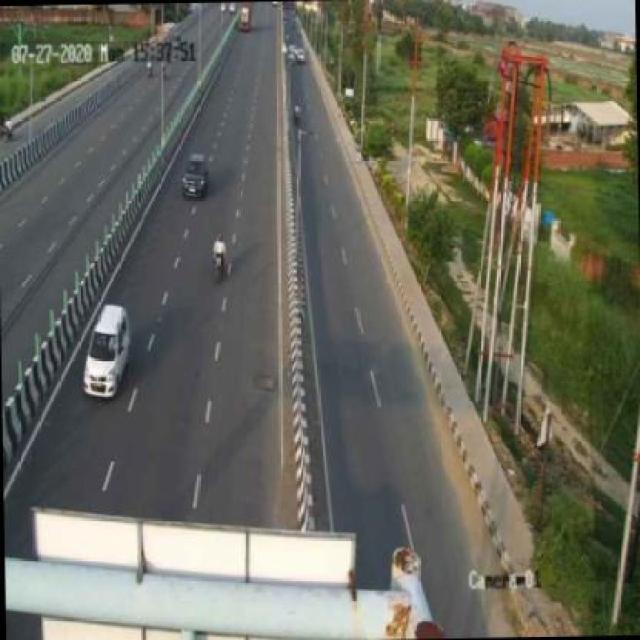car: (78, 299, 134, 403), (182, 156, 209, 198)
